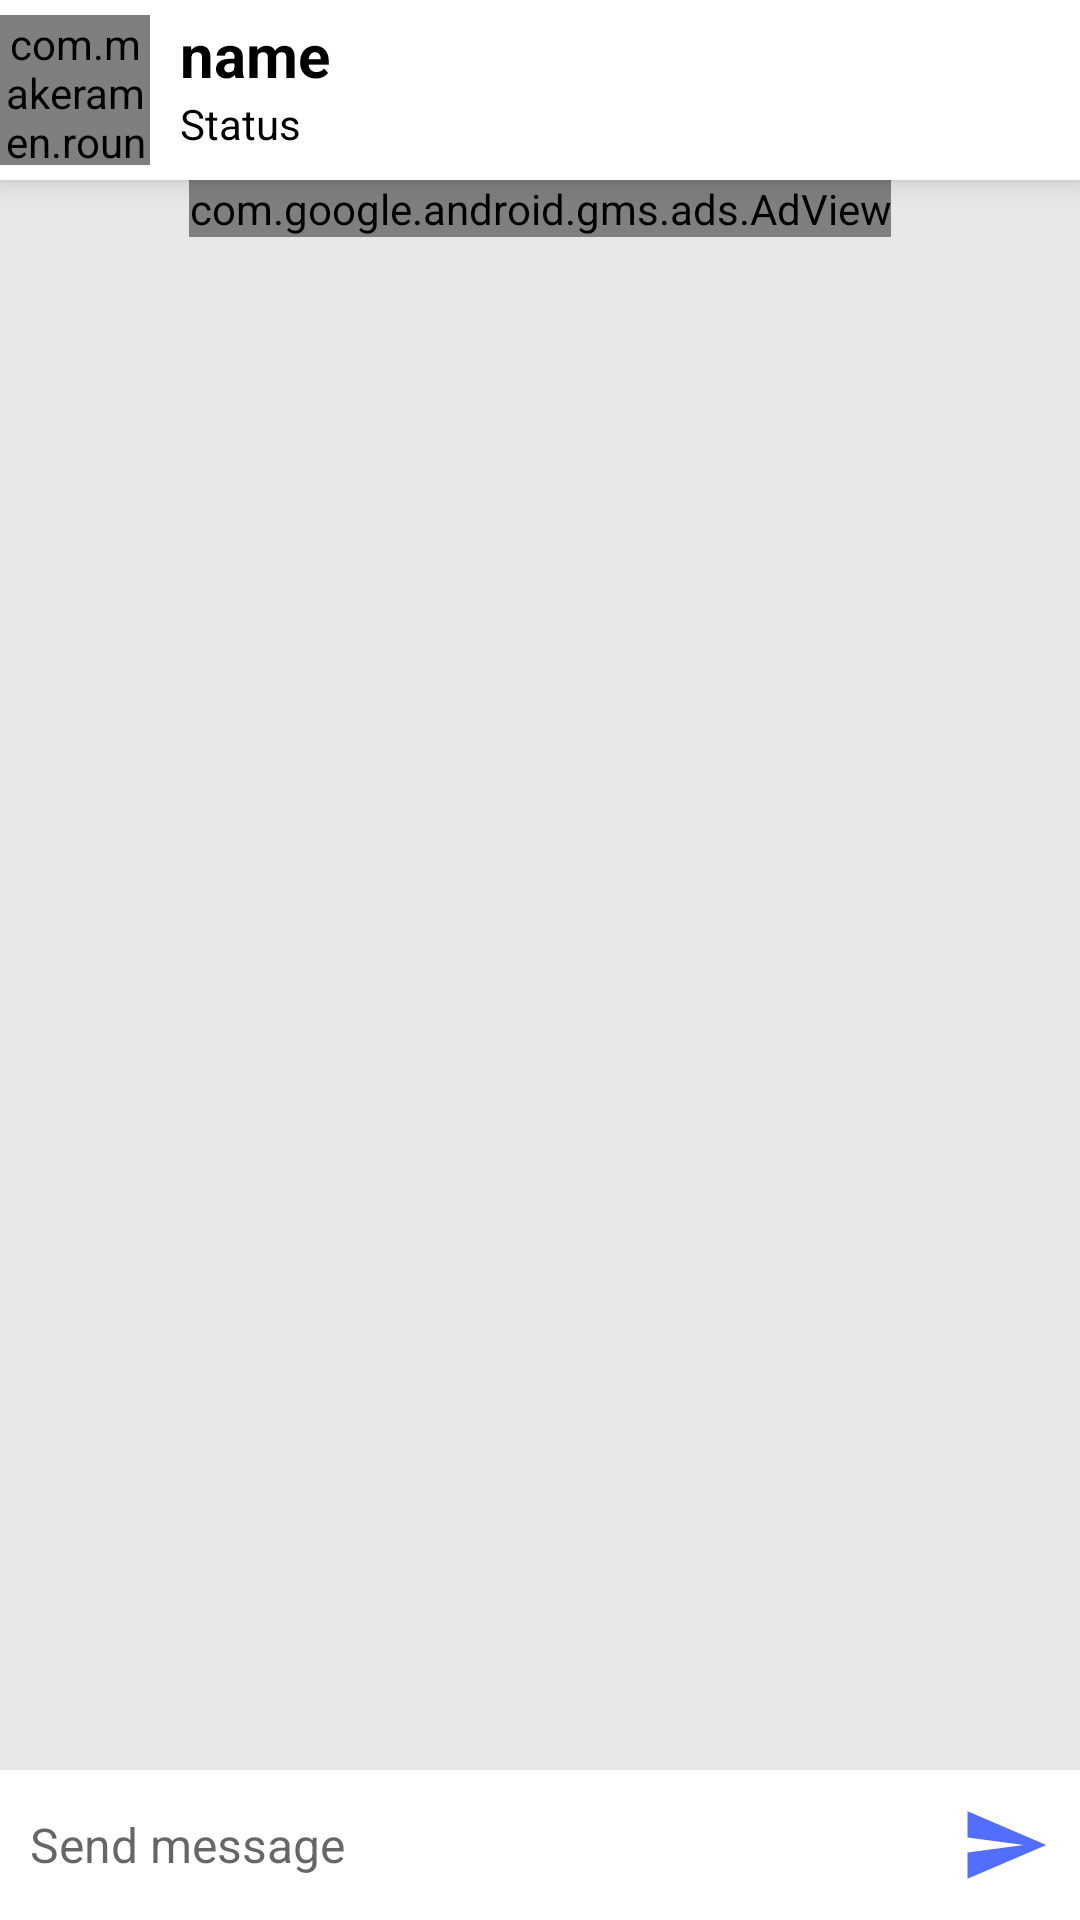

Locate icon controls on the screen. Image size 1080px×1920px, boxes as (x1, y1, x2, y2).
chat send: (967, 1811, 1046, 1879)
